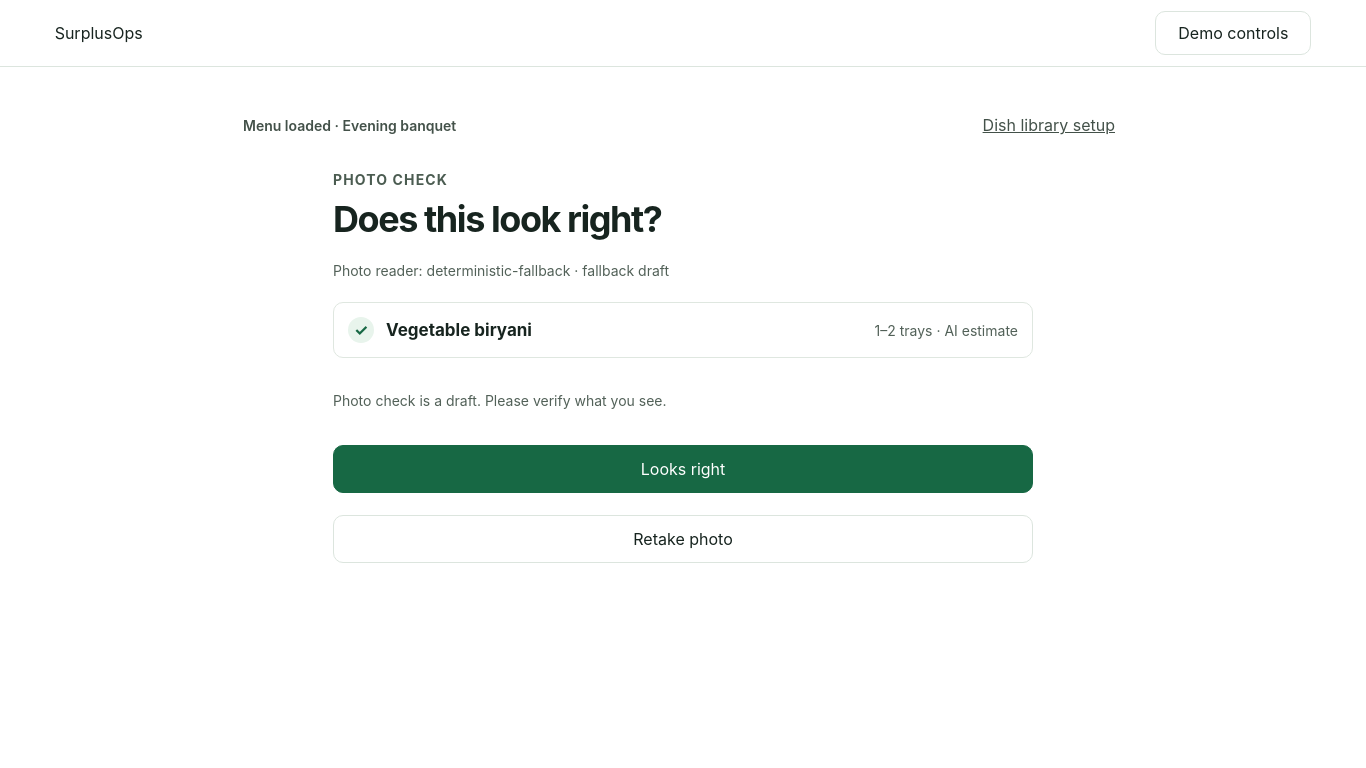
Test: ConsolePage three-state presentation › keeps a partly served batch out of human-consumption routing
Earlier steps of the test are not shown.
Later steps or results of the test are not shown.
Check: the heading "Does this look right?" is shown, box [333, 197, 662, 241]
What coordinates should you click on to do the following:
click the button "Looks right"
I would click on:
 (683, 470)
Its box is [333, 446, 1033, 494].
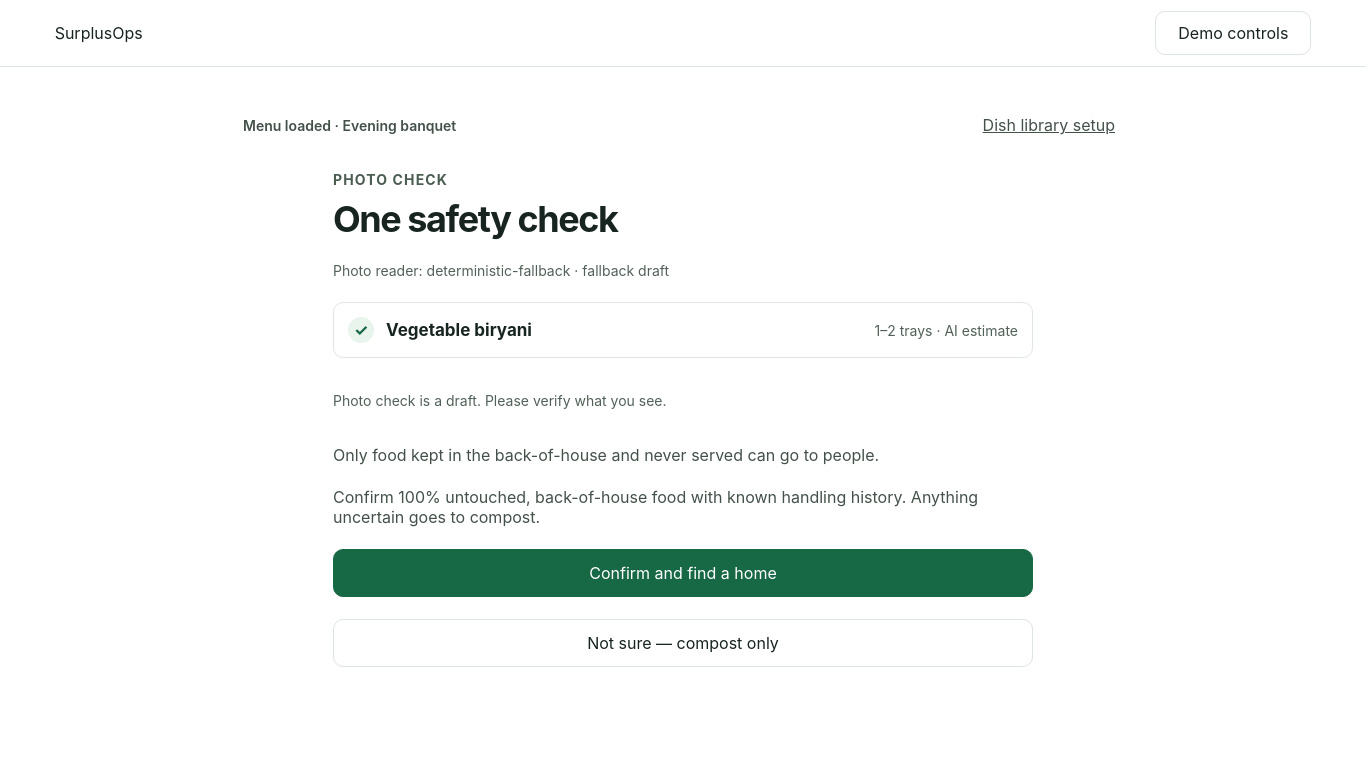
Check: the text "Only food kept in the back-of-house and never served can go to people." is shown, box [333, 446, 879, 466]
